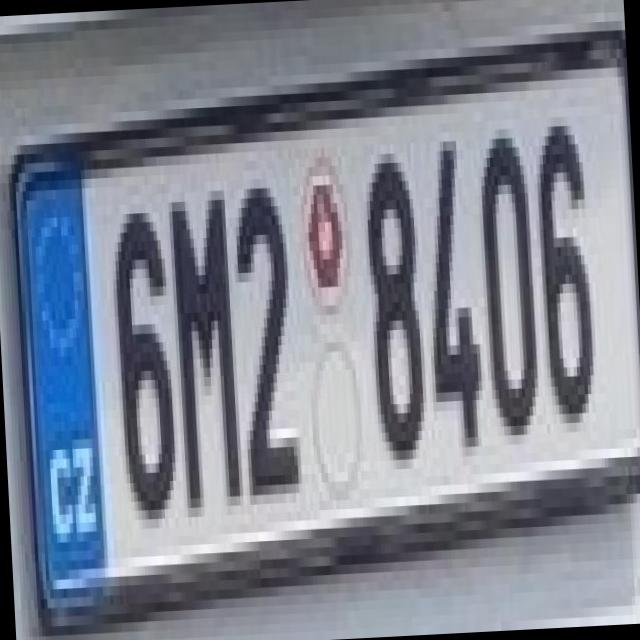0: (467, 101, 538, 446)
2: (226, 159, 303, 496)
4: (408, 104, 482, 449)
6: (101, 184, 178, 512), (526, 98, 596, 424)
8: (350, 134, 426, 453)
M: (156, 172, 244, 500)
